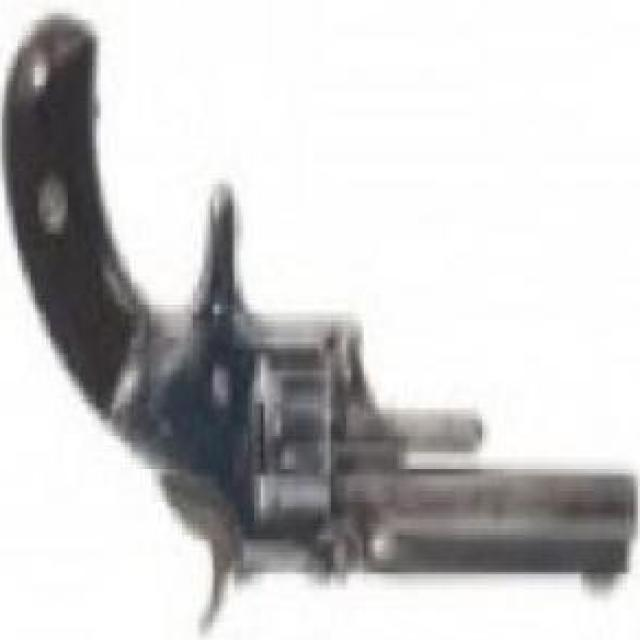pistol: (9, 24, 638, 638)
